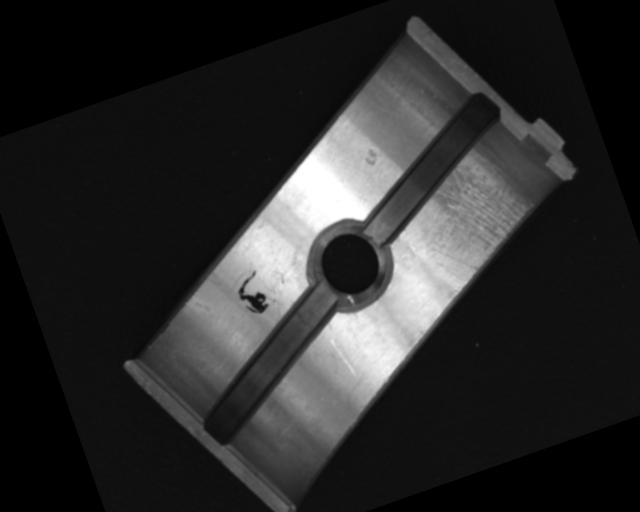blot: (230, 267, 273, 321)
bruise: (359, 143, 384, 168)
gap: (168, 283, 367, 450), (337, 89, 526, 244)
hole: (295, 211, 401, 320)
nick: (331, 335, 358, 382)
scratch: (397, 142, 549, 292)
